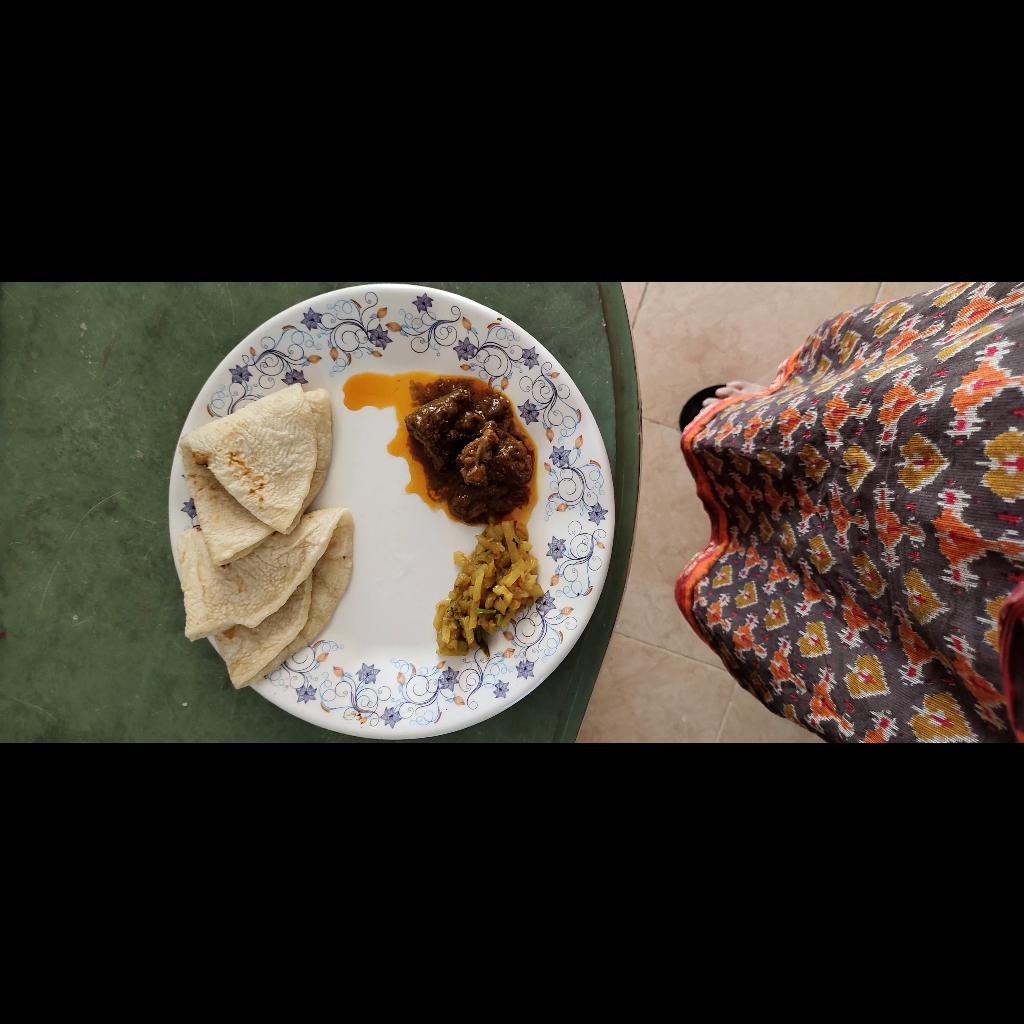beef: (220, 622, 370, 823)
potato: (80, 715, 223, 825)
ruti: (51, 455, 366, 641)
